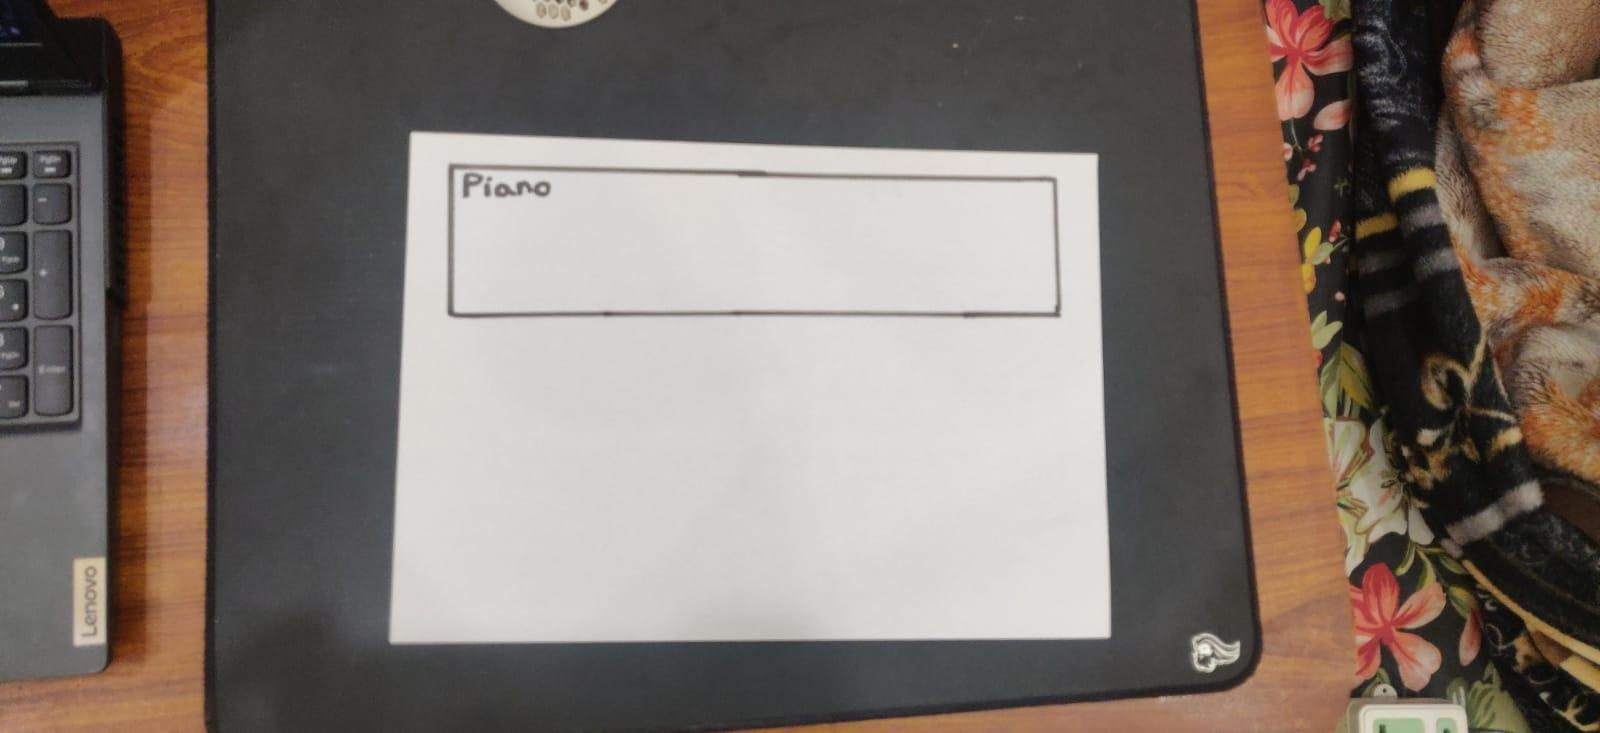paper-piano: (450, 167, 1058, 314)
